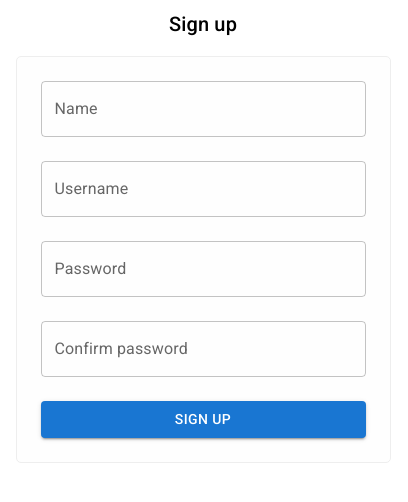
Sign up form component › should show username must be at least 5 characters on field when submitting with short username
In the field labelled "Name": (203, 109) left=40, top=81, right=366, bottom=137, type "John Doe"
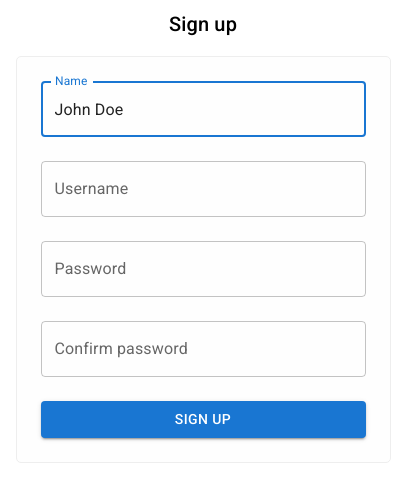
In the field labelled "Username": (203, 189) left=40, top=161, right=366, bottom=217, type "john"
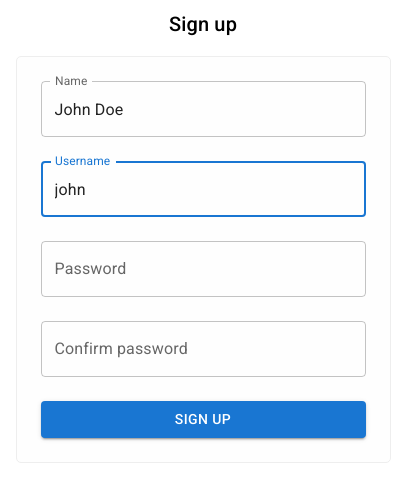
In the password field labelled "Password": (203, 269) left=40, top=241, right=366, bottom=297, type "123456"
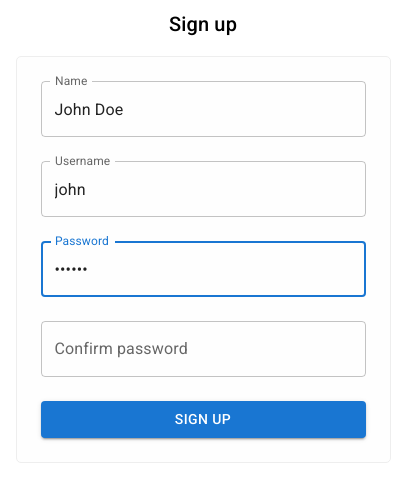
In the password field labelled "Confirm password": (203, 349) left=40, top=321, right=366, bottom=377, type "123456"
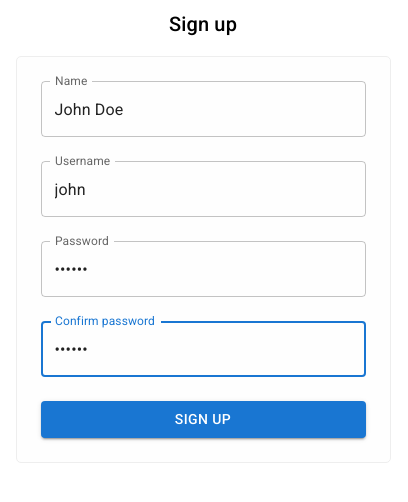
Click the button "Sign up": (203, 419) left=40, top=401, right=366, bottom=438
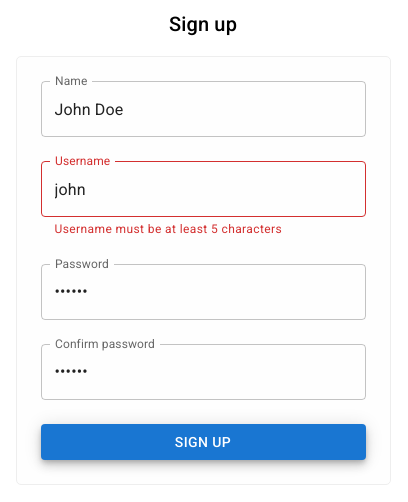
Result: the text "Username must be at least 5 characters" is shown at left=54, top=222, right=282, bottom=236
